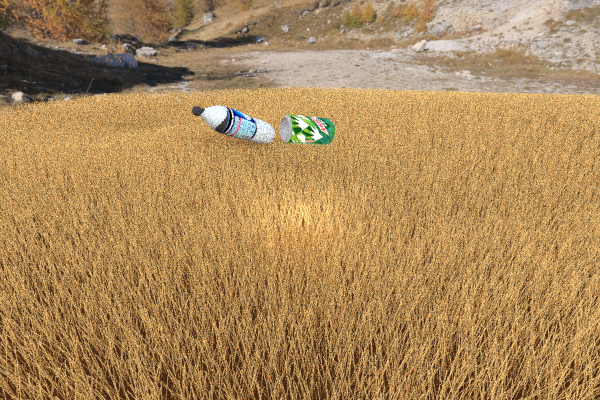bottle: (191, 105, 275, 145)
can: (176, 151, 236, 230), (279, 113, 336, 145)
